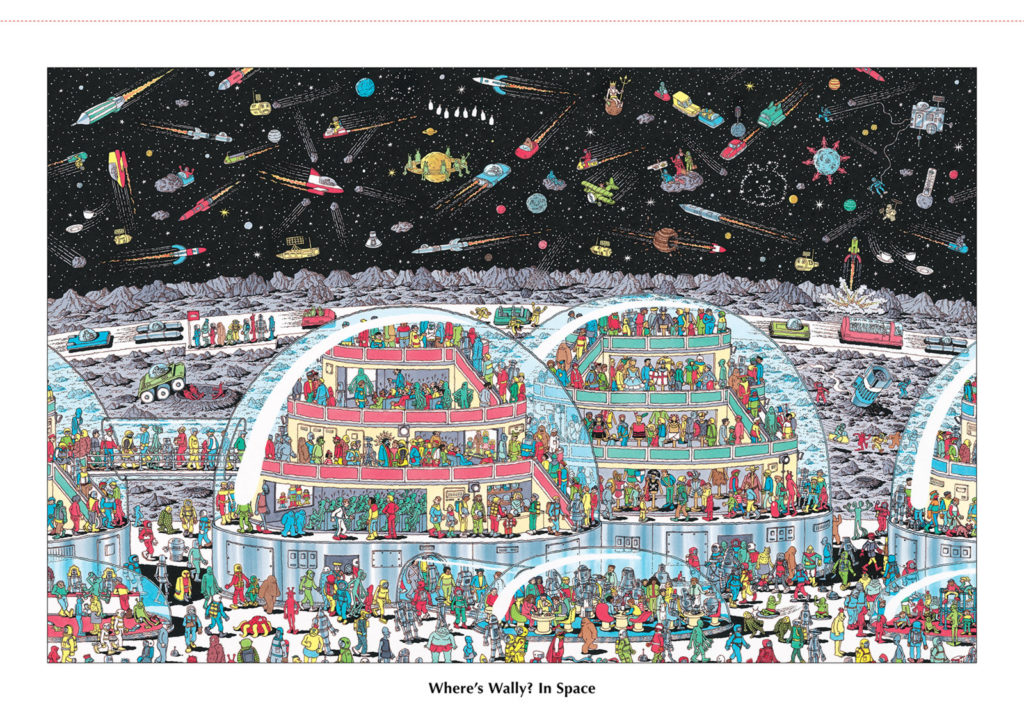waldo: (591, 359, 605, 378)
